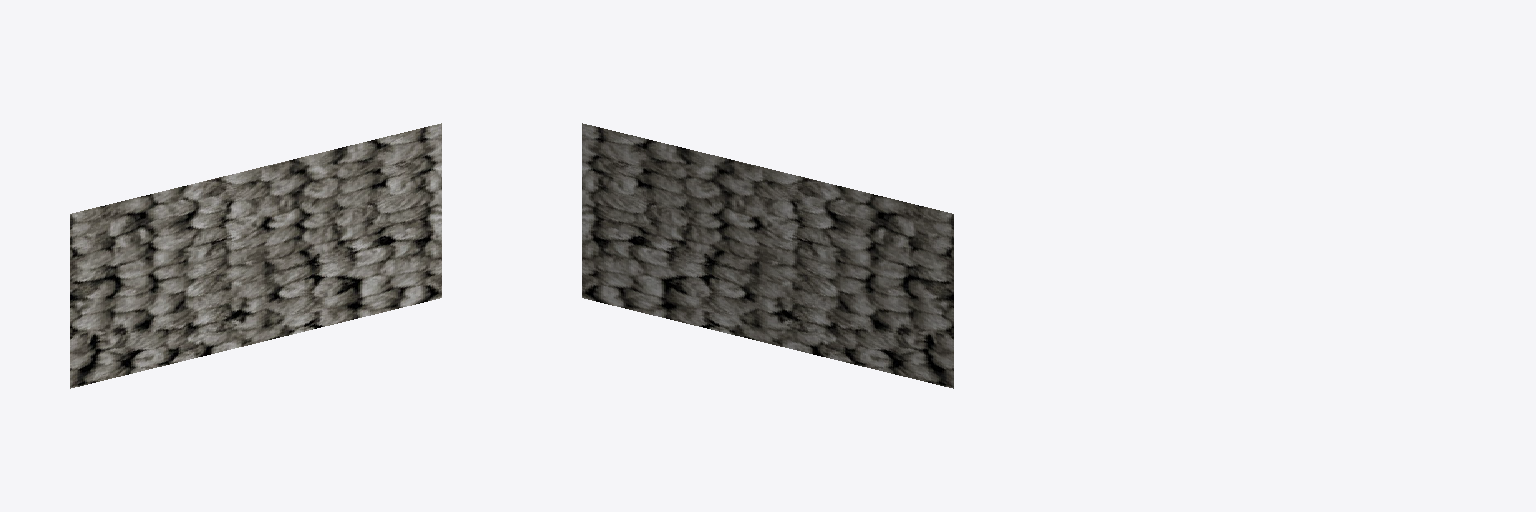
The picture shows the model from 3 angles: view 1: azimuth 30°, elevation 25°; view 2: azimuth 150°, elevation 25°; view 3: azimuth 270°, elevation 25°; orthographic projection.
Parts seen in each view (by area): view 1: polySurface1 demofloor:pCube10; view 2: polySurface1 demofloor:pCube10; view 3: none.
Boxes of the visible parts, x1,y1,x2,y2 form: polySurface1 demofloor:pCube10: [70, 123, 441, 388]; polySurface1 demofloor:pCube10: [582, 123, 953, 388].
Size of the model in its own units: 8.31 by 3.73 by 0.
Materials: 1 (1 with a texture image).